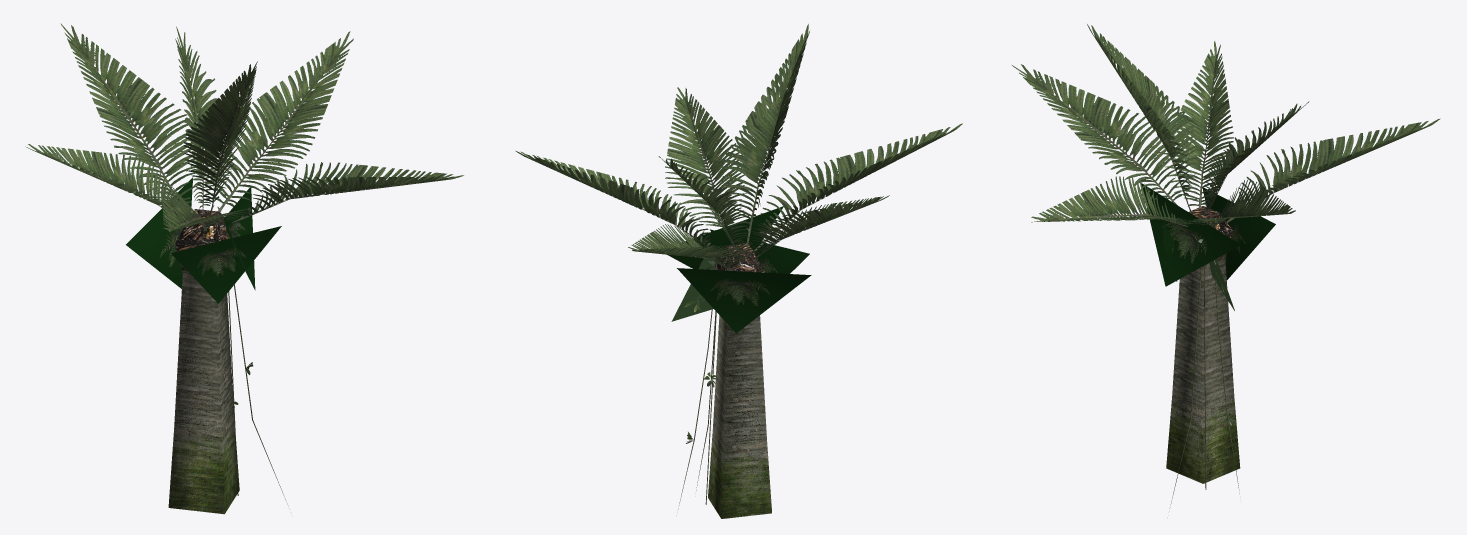
File: ever_palmtree_thk_l1.fbx
3 views of the same model, side by side, from view 1: azimuth 30°, elevation 25°; view 2: azimuth 150°, elevation 25°; view 3: azimuth 270°, elevation 25° (orthographic). The views are drawn at different scales.
Visible parts, largest first — view 1: mesh_node; view 2: mesh_node; view 3: mesh_node.
Part boxes in pixels (x1,y1,x2,y2): mesh_node: (25,23,463,514); mesh_node: (515,24,962,518); mesh_node: (1012,24,1440,508).
Size of the model in its own units: 10.46 by 13.35 by 11.54.
